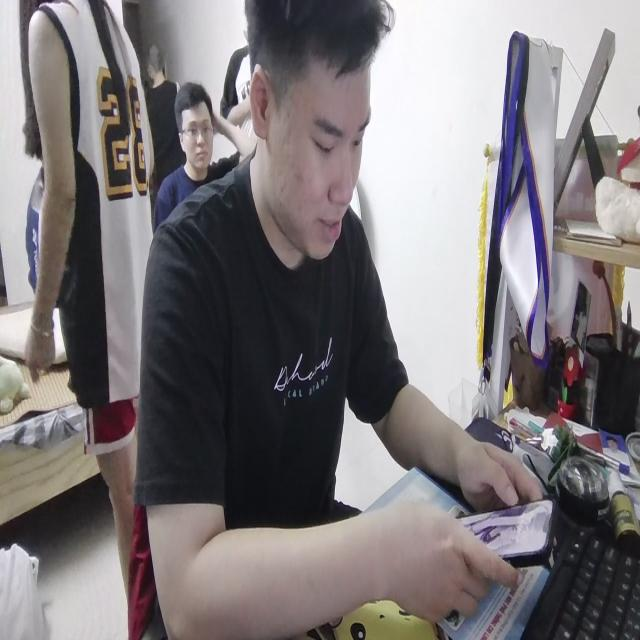extra_person: (16, 0, 171, 614), (161, 78, 243, 215)
phone: (449, 478, 556, 565)
student: (146, 0, 542, 640)
